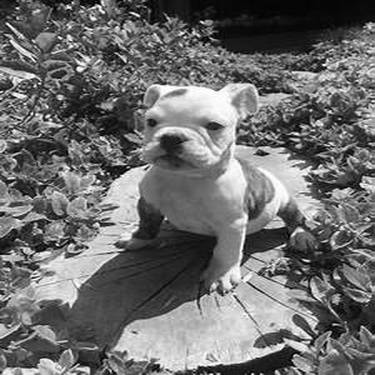dog: (94, 64, 321, 301)
